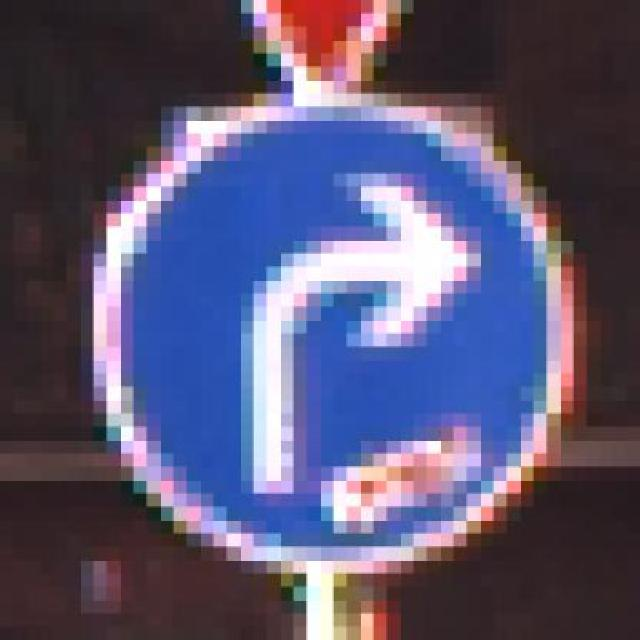Turn right ahead: (69, 91, 588, 572)
